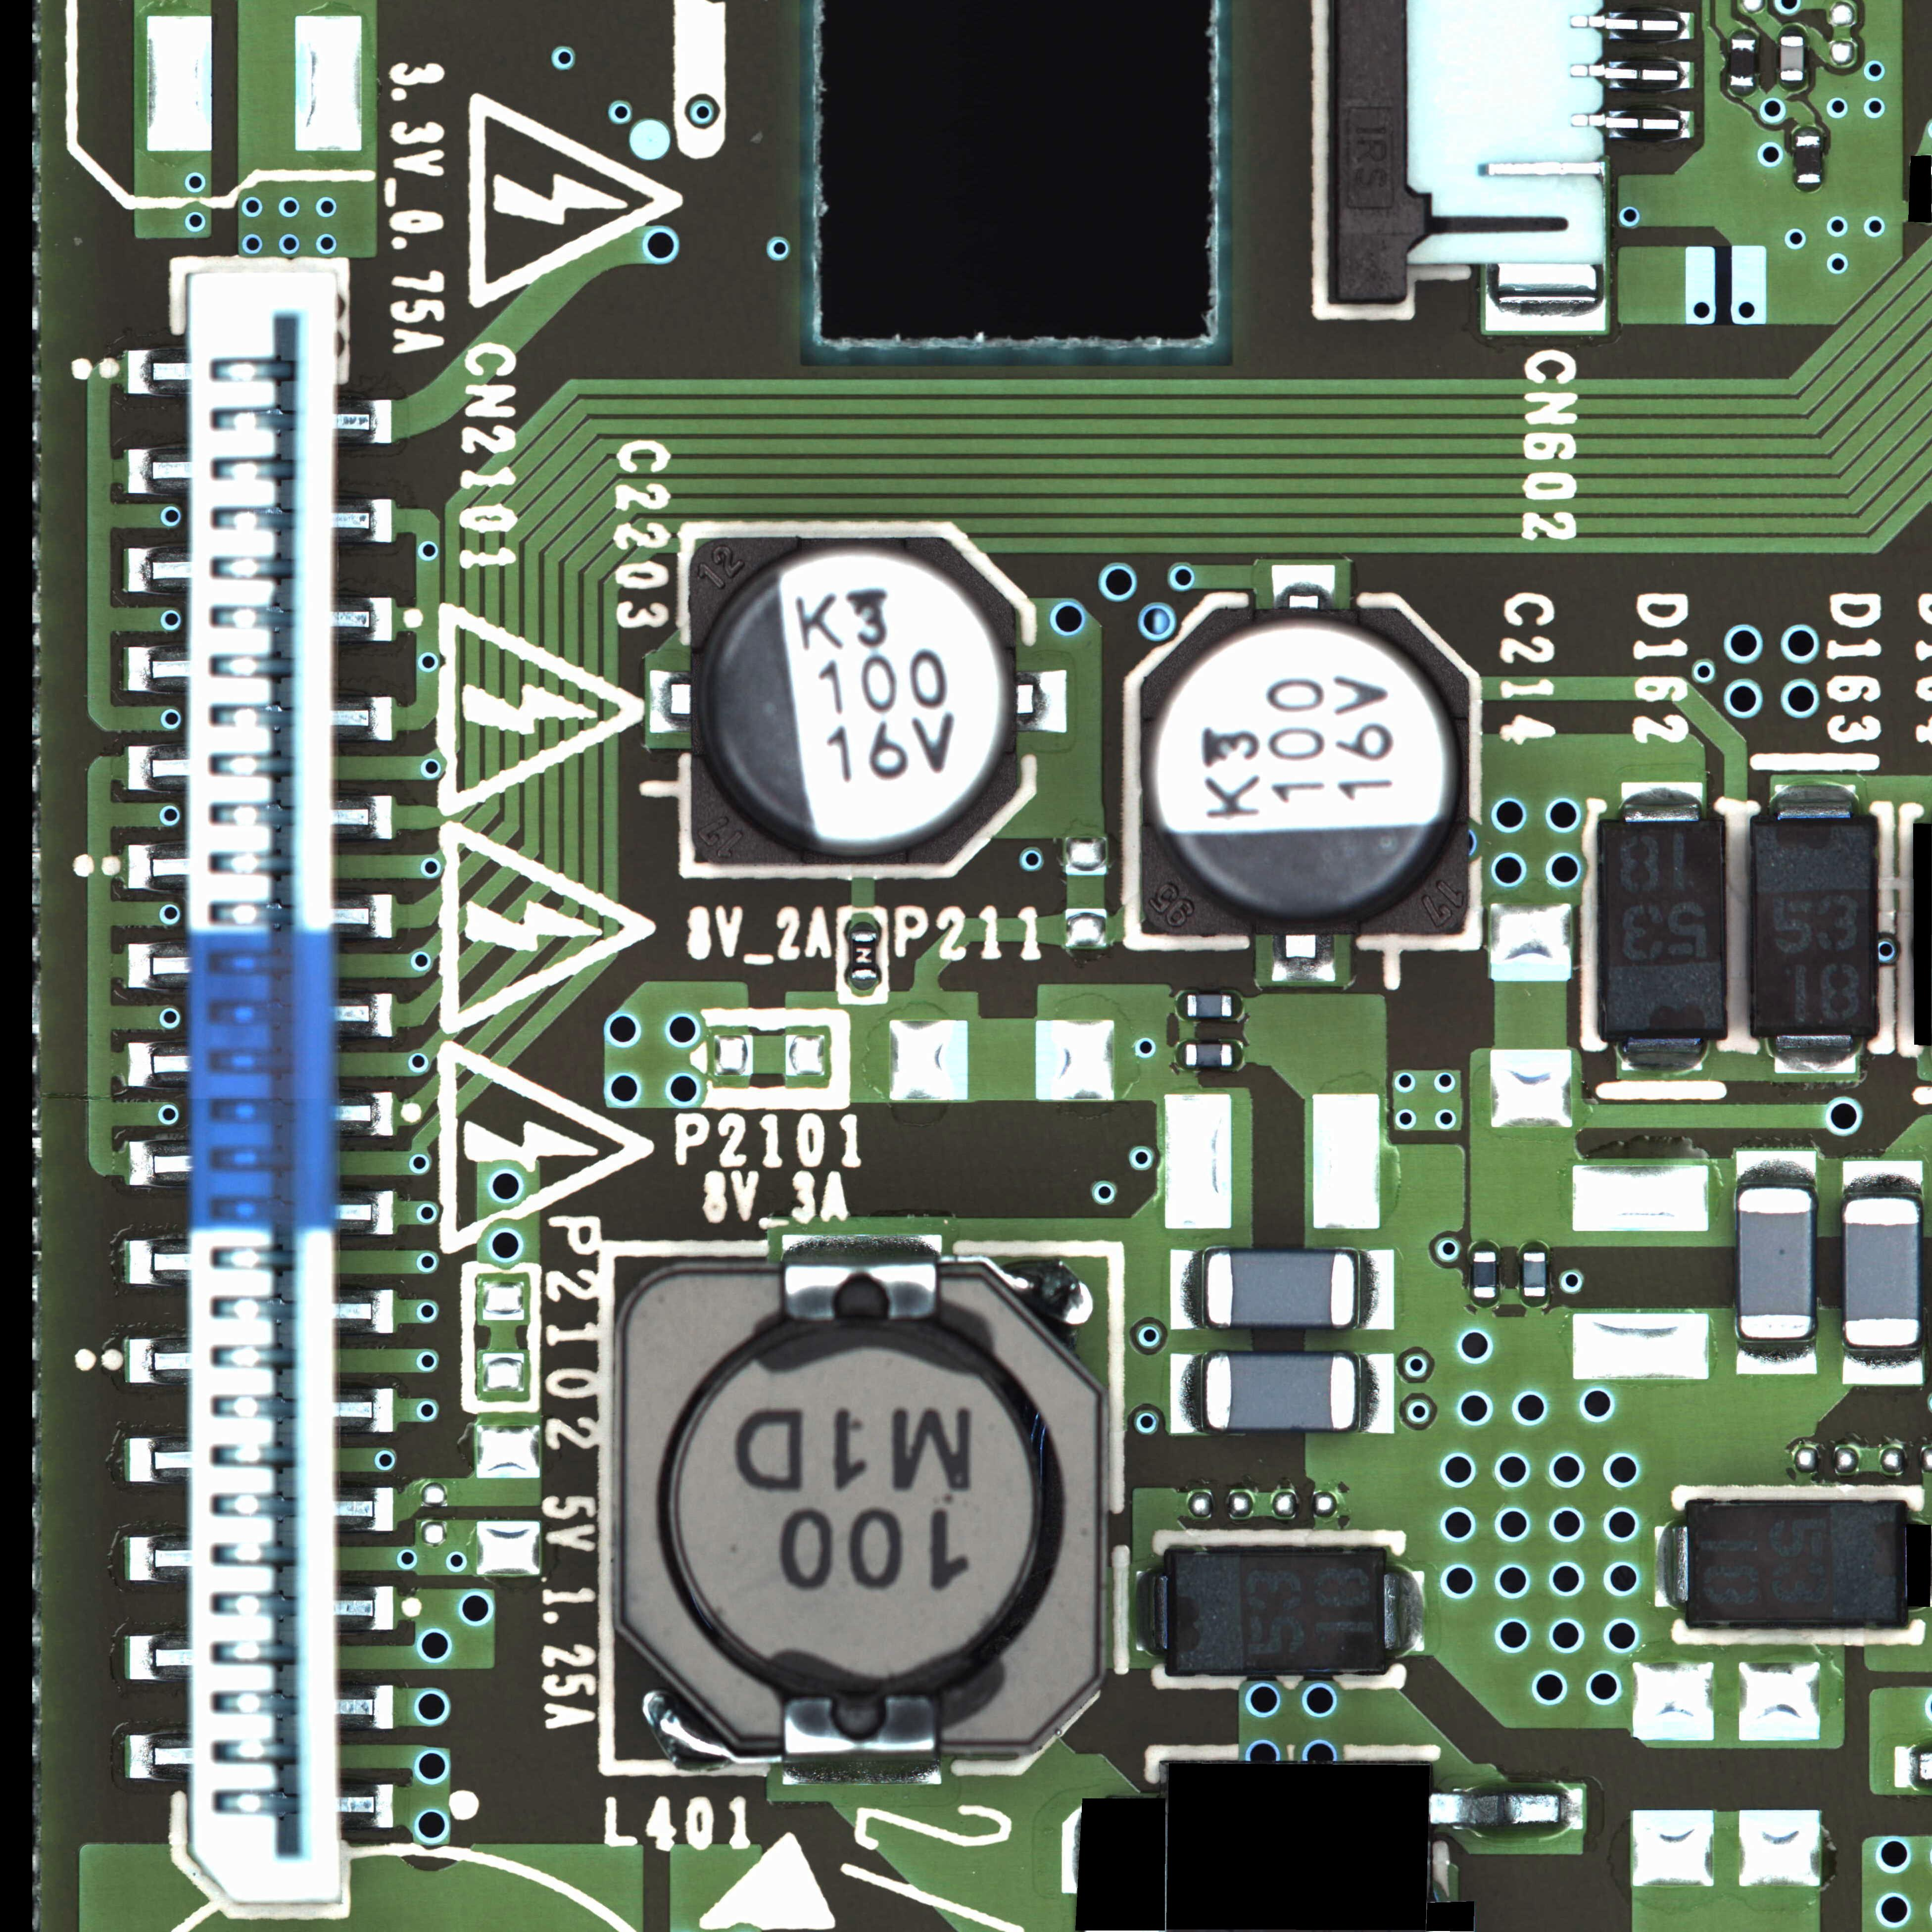Package: (616, 1261, 1102, 1753), (1139, 607, 1467, 934), (692, 538, 1019, 863), (1688, 1500, 1905, 1626), (1168, 1548, 1385, 1672), (1753, 817, 1875, 1035), (1601, 821, 1723, 1037), (1207, 1355, 1355, 1430), (1845, 1200, 1920, 1346), (1207, 1253, 1355, 1325), (1739, 1189, 1812, 1338), (1796, 136, 1821, 182), (1730, 39, 1755, 85), (851, 932, 876, 977), (1523, 1253, 1546, 1297), (1780, 35, 1803, 80), (1474, 1251, 1495, 1297), (1185, 1044, 1231, 1065), (1187, 994, 1231, 1016)
Solder: (1431, 1790, 1580, 1829), (784, 1755, 941, 1785), (780, 1235, 941, 1260), (1775, 1035, 1856, 1074), (1387, 1568, 1424, 1652), (1017, 671, 1067, 732), (1621, 782, 1702, 819), (1844, 1161, 1921, 1198), (1357, 1353, 1392, 1433), (1773, 784, 1856, 817), (1272, 564, 1338, 607), (1357, 1251, 1392, 1329), (1274, 936, 1336, 980), (1622, 1039, 1704, 1072), (1652, 1527, 1686, 1608), (1845, 1348, 1921, 1384), (1171, 1353, 1205, 1433), (1134, 1569, 1166, 1652), (649, 669, 690, 732), (1737, 1152, 1813, 1185), (1739, 1339, 1813, 1373), (1171, 1251, 1203, 1329), (853, 978, 878, 991), (1474, 1297, 1495, 1309), (851, 922, 876, 932), (1730, 28, 1755, 39), (1730, 87, 1755, 97), (1523, 1297, 1546, 1307), (1796, 184, 1822, 193), (1780, 27, 1806, 35), (1177, 994, 1187, 1016), (1782, 80, 1803, 90), (1472, 1242, 1495, 1251), (1523, 1242, 1546, 1251), (1231, 994, 1240, 1017), (1233, 1044, 1242, 1065), (1177, 1044, 1185, 1065), (1796, 127, 1821, 134)
